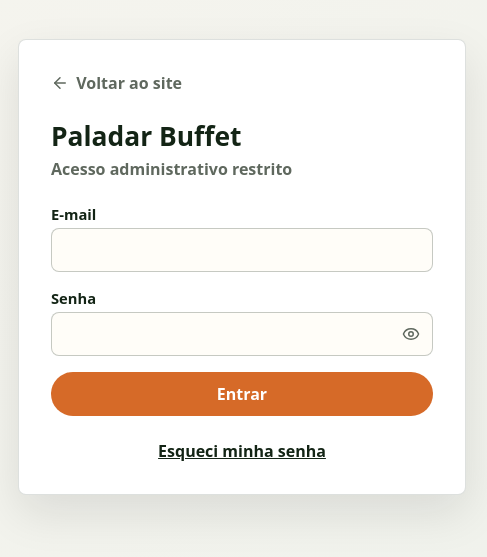
Test: LoginPage › validates required login fields
The image size is (487, 557).
Click the button "Entrar": click(242, 394) [51,372,433,416]
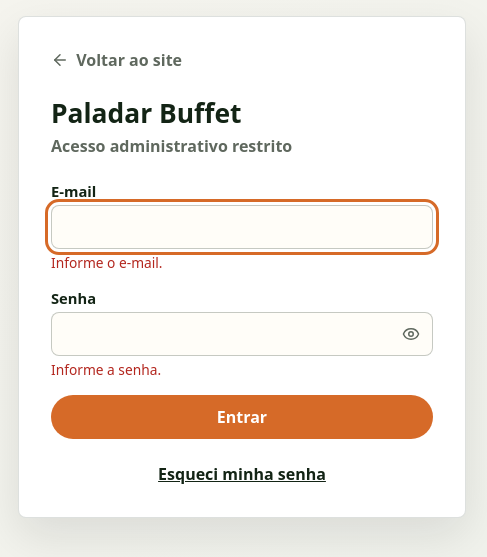
expect the text "Informe o e-mail." is shown: met, box [51,253,162,272]
expect the text "Informe a senha." is shown: met, box [51,360,161,379]
